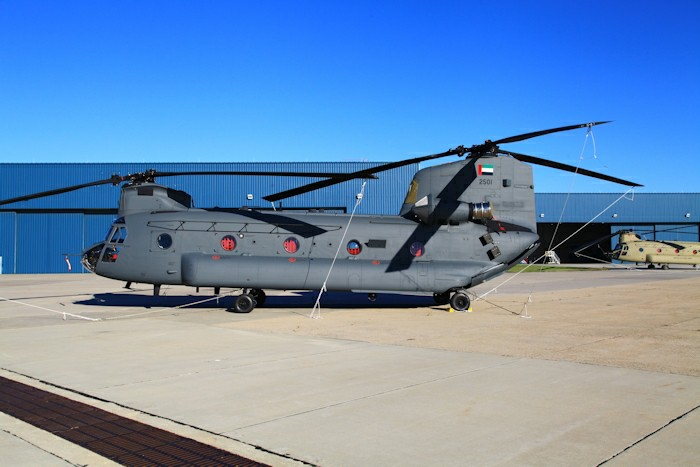chinook: (78, 125, 581, 321)
